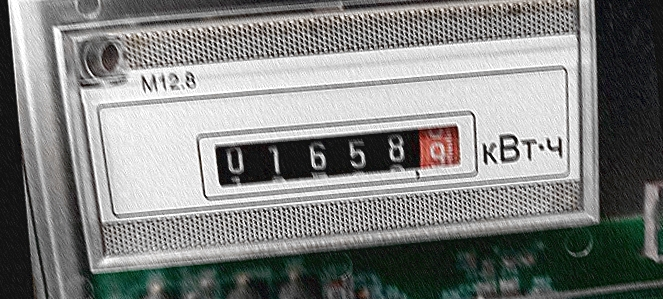0: (221, 142, 245, 175)
1: (266, 142, 281, 174)
5: (345, 136, 367, 169)
6: (305, 138, 328, 171)
8: (384, 130, 406, 164)
9: (425, 139, 445, 166)
screen: (187, 101, 484, 205)
